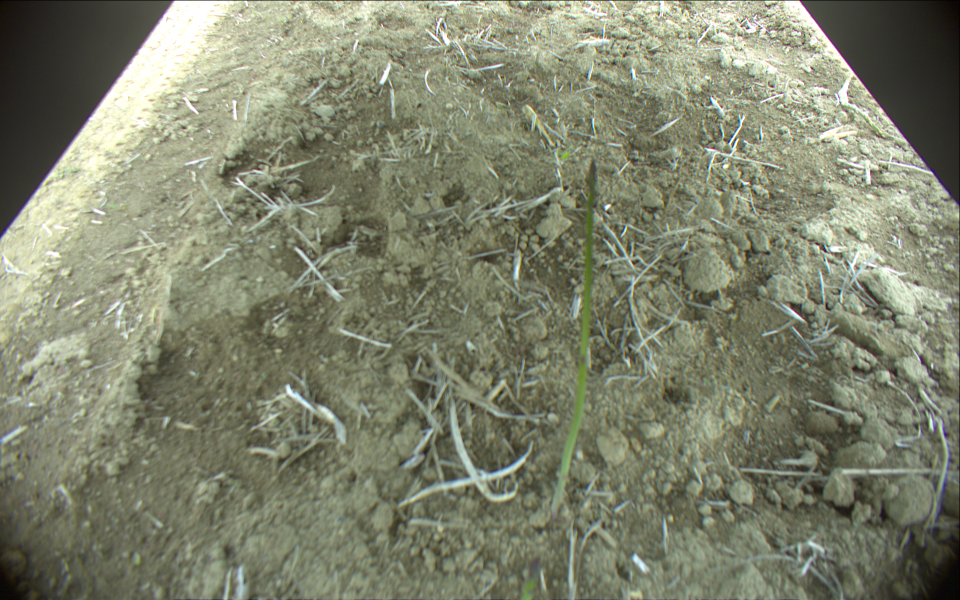aspa: (550, 160, 596, 513)
